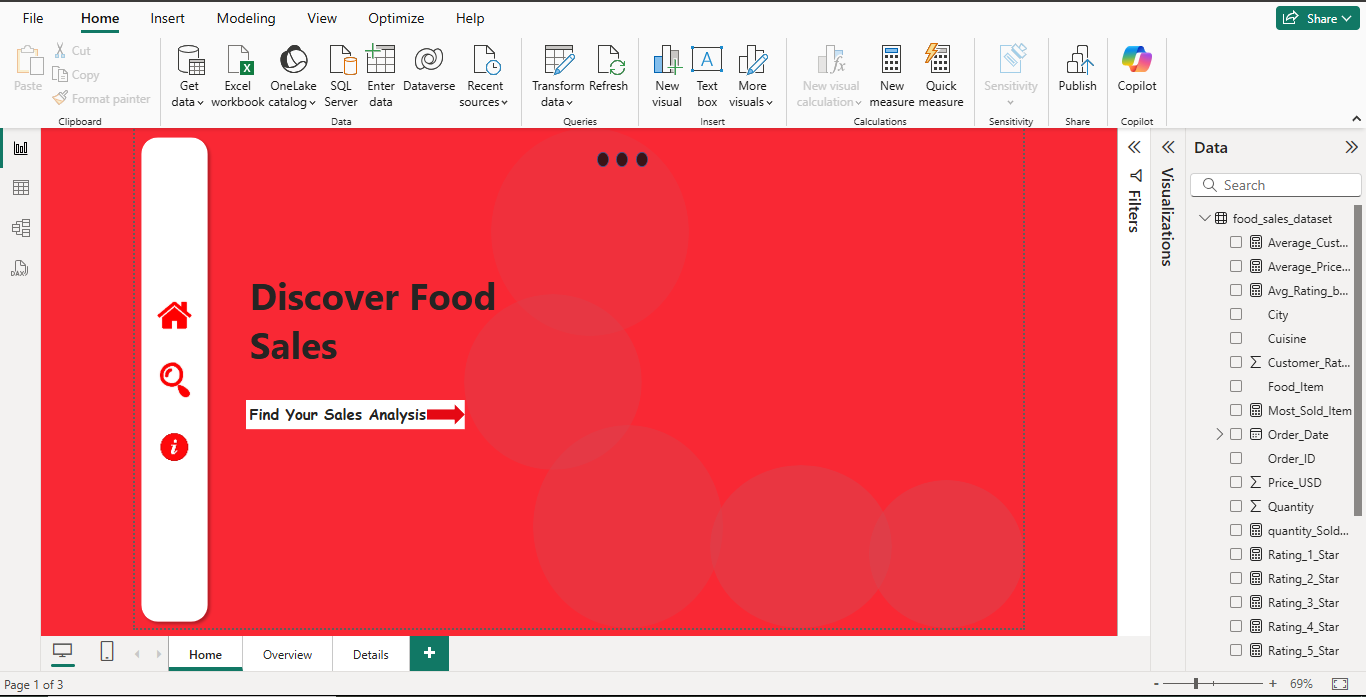

This screenshot's page, from the dashboard's own definition file:
{"tool":"powerbi","page":{"name":"Home","canvas":[1280,720],"ordinal":0},"visuals":[{"type":"shape","box":[0,4.3,113.8,715.7],"z":4001},{"type":"image","box":[27.4,239,59,60.5],"z":4006},{"type":"image","box":[27.4,332.6,60.5,60.5],"z":4007},{"type":"image","box":[31.7,433.4,50.4,51.8],"z":4008},{"type":"textbox","box":[159.8,198.7,371.5,161.3],"z":4009},{"type":"shape","box":[665.3,34.6,17.3,21.6],"z":4010},{"type":"shape","box":[721.4,34.6,17.3,21.6],"z":4011},{"type":"shape","box":[692.6,34.6,17.3,21.6],"z":4012},{"type":"textbox","box":[159.8,391.7,315.4,41.8],"z":4013},{"type":"shape","box":[420.5,397.4,54.7,30.2],"z":4014},{"type":"shape","box":[512.6,0,285.1,299.5],"z":4015},{"type":"shape","box":[473.8,239,256.3,253.4],"z":4016},{"type":"shape","box":[573.1,427.7,273.6,292.3],"z":4017},{"type":"shape","box":[828,485.3,262.1,234.7],"z":4018},{"type":"shape","box":[1057,506.9,223.2,213.1],"z":4019}]}

Visuals, with their boxes on the page's 1280x720 design canvas (x1, y1, x2, y2). These are canvas units, not pixel positions in the 1366x697 screenshot, which may show the page scaled, cropped or inside an application window:
shape: l=0, t=4, r=114, b=720
image: l=27, t=239, r=86, b=300
image: l=27, t=333, r=88, b=393
image: l=32, t=433, r=82, b=485
textbox: l=160, t=199, r=531, b=360
shape: l=665, t=35, r=683, b=56
shape: l=721, t=35, r=739, b=56
shape: l=693, t=35, r=710, b=56
textbox: l=160, t=392, r=475, b=434
shape: l=420, t=397, r=475, b=428
shape: l=513, t=0, r=798, b=300
shape: l=474, t=239, r=730, b=492
shape: l=573, t=428, r=847, b=720
shape: l=828, t=485, r=1090, b=720
shape: l=1057, t=507, r=1280, b=720
